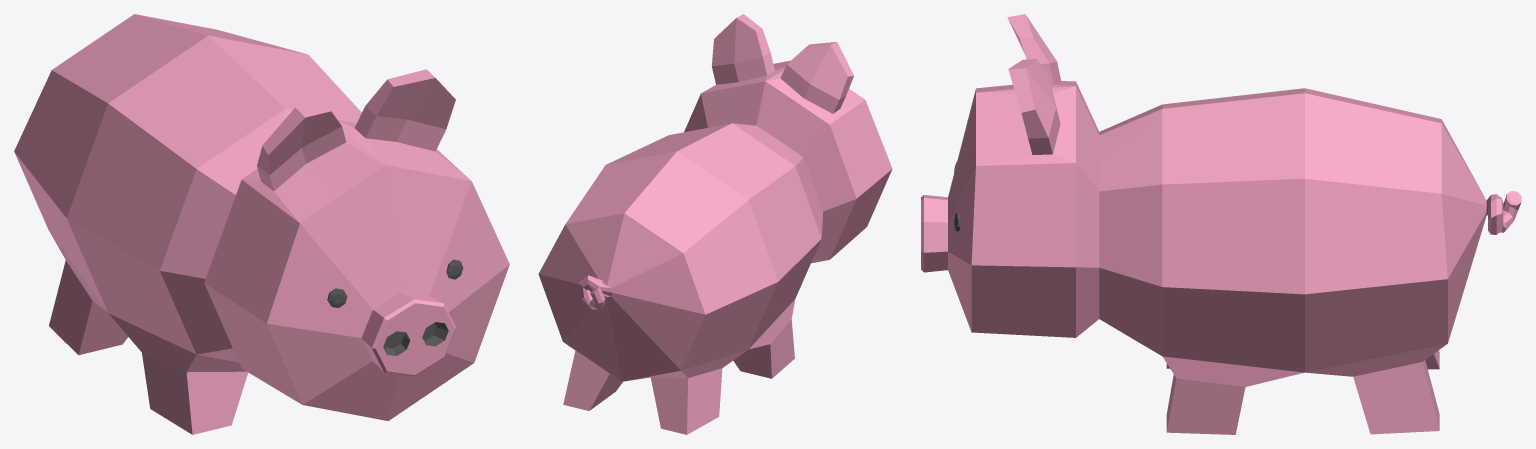
File: Pig.glb
3 renders of one model, left to right at view 1: azimuth 30°, elevation 25°; view 2: azimuth 150°, elevation 25°; view 3: azimuth 270°, elevation 25°, orthographic. The views are drawn at different scales.
Visible parts, largest first — view 1: Pig_01_Circle.003; view 2: Pig_01_Circle.003; view 3: Pig_01_Circle.003.
Part boxes in pixels (left/top/right/bottom): Pig_01_Circle.003: left=14, top=14, right=509, bottom=434; Pig_01_Circle.003: left=538, top=14, right=892, bottom=434; Pig_01_Circle.003: left=921, top=14, right=1521, bottom=434.
Bounding box in the file's own units: 10 × 12.92 × 19.84.
